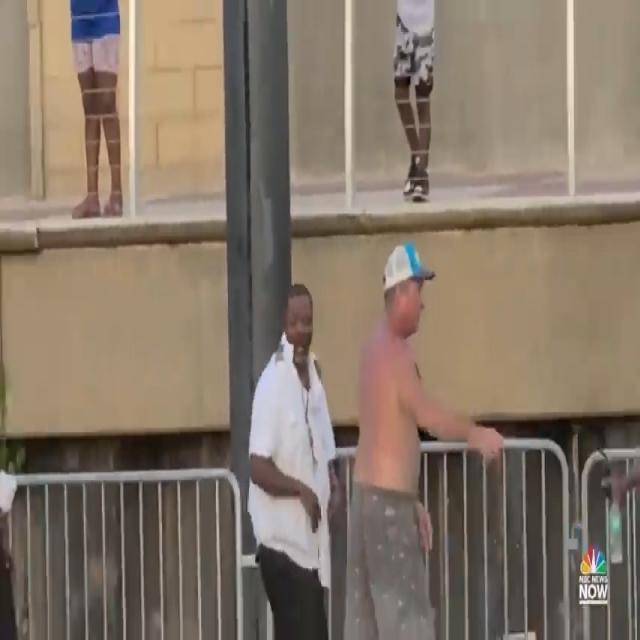non-fight: (239, 236, 507, 640)
